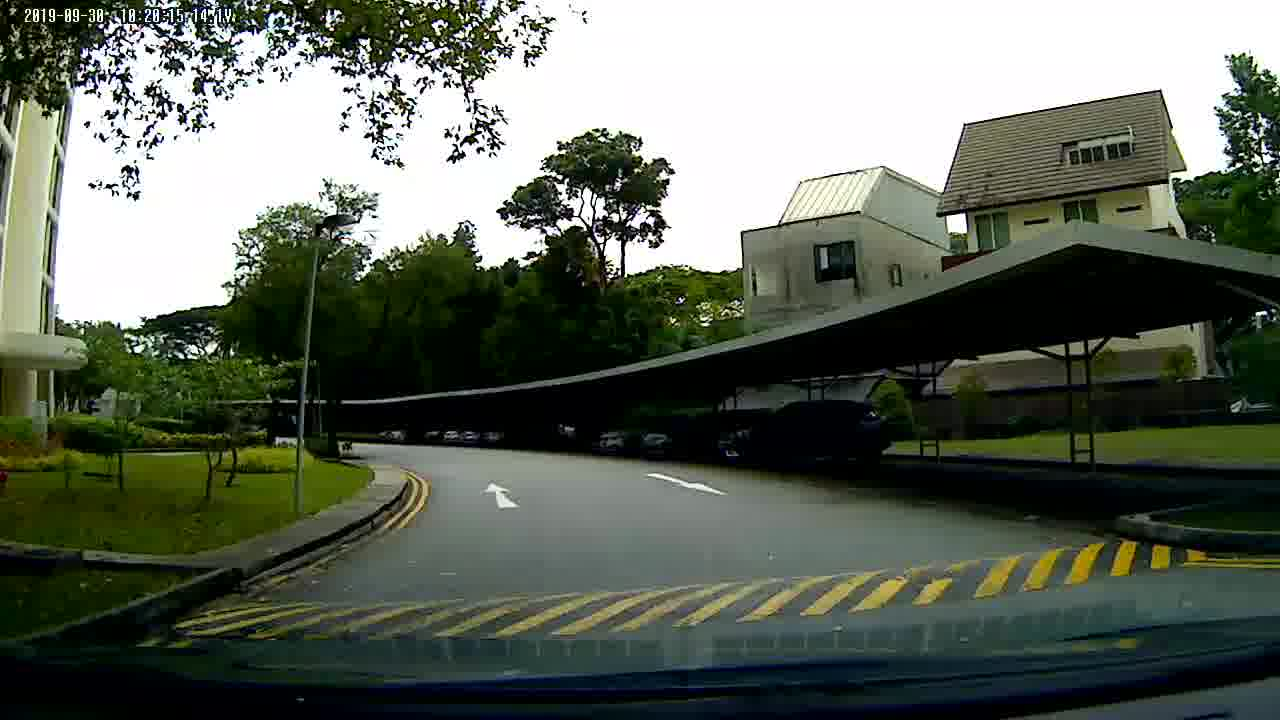car: (713, 400, 895, 472)
